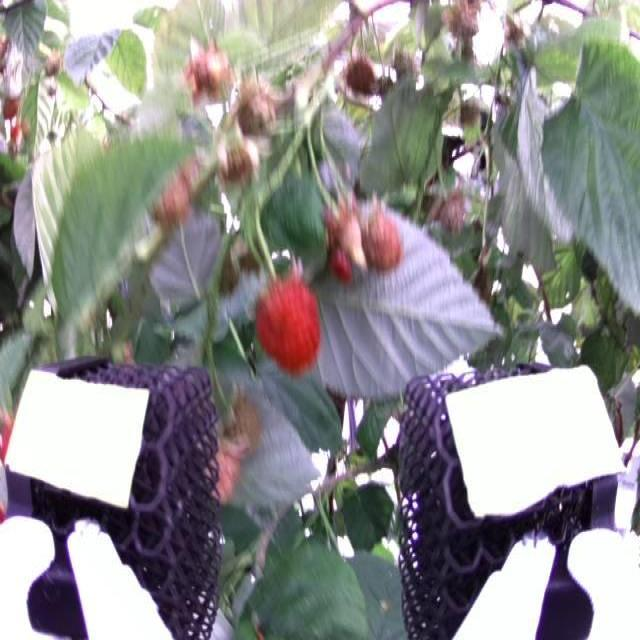Riped berries: (250, 272, 324, 373), (330, 244, 358, 291)
